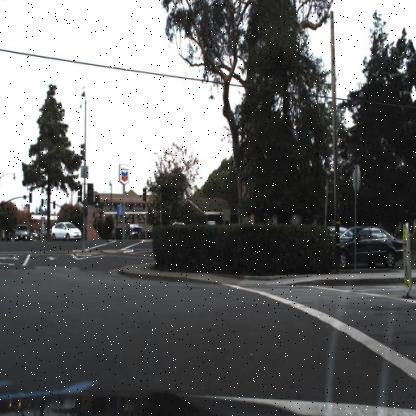car: (339, 222, 408, 272), (324, 224, 360, 251), (51, 218, 82, 244), (49, 220, 83, 243), (12, 222, 32, 244)
